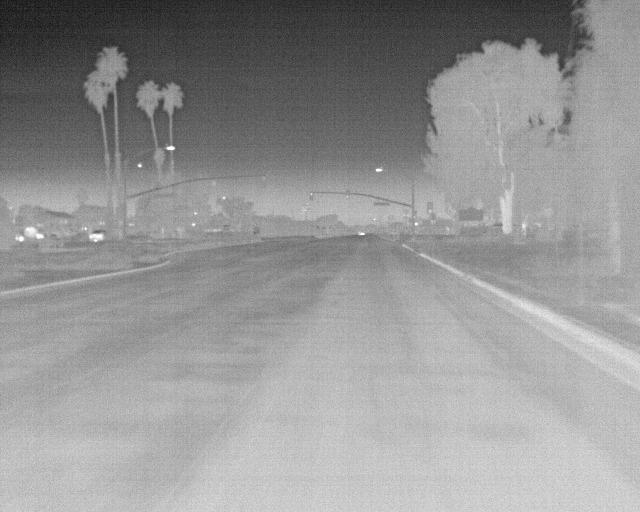car: (88, 228, 106, 244)
